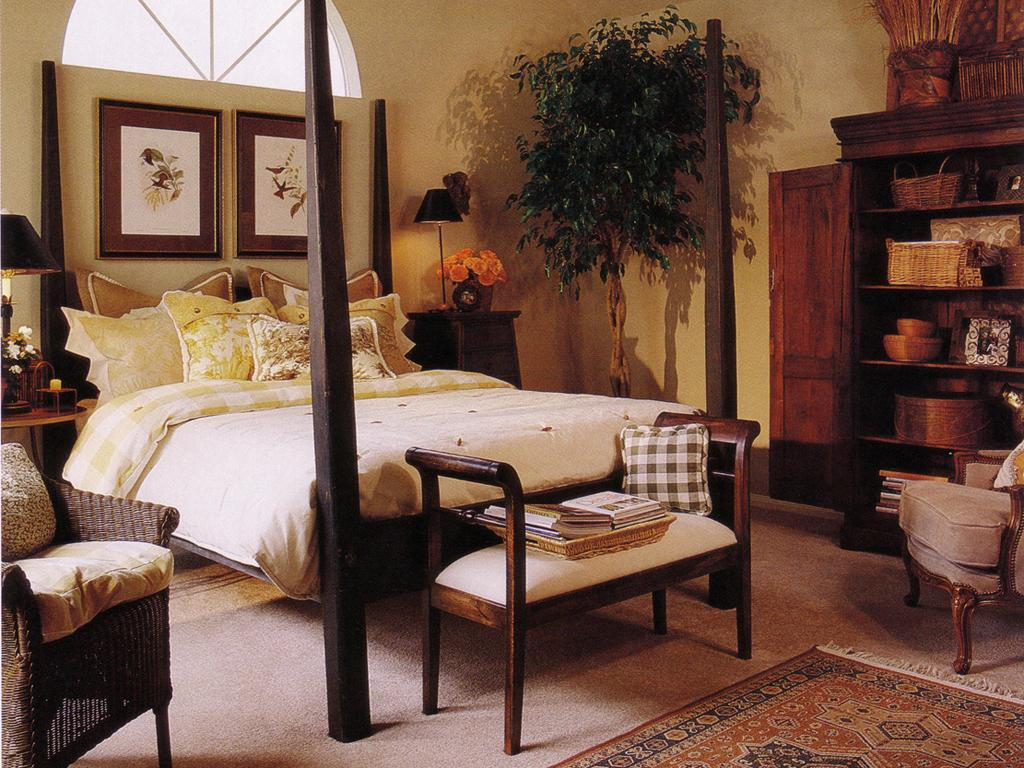Cama: (59, 248, 742, 705)
Matera: (518, 42, 741, 394)
Puerta: (766, 174, 846, 518)
